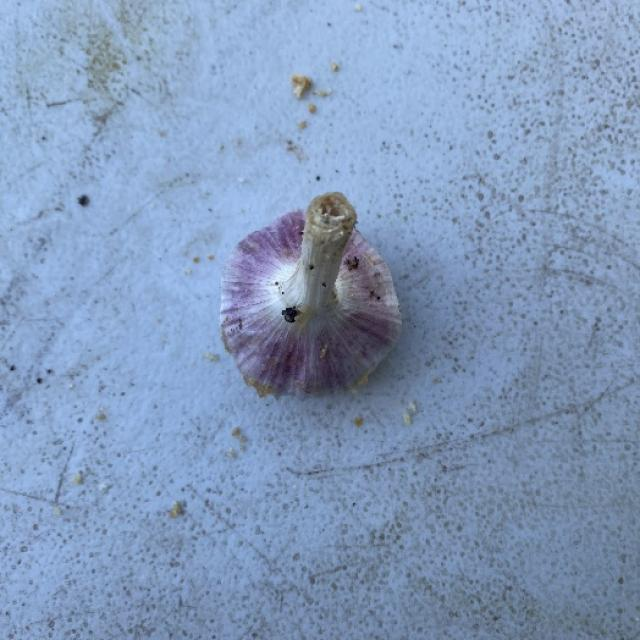organik: (213, 180, 408, 407)
